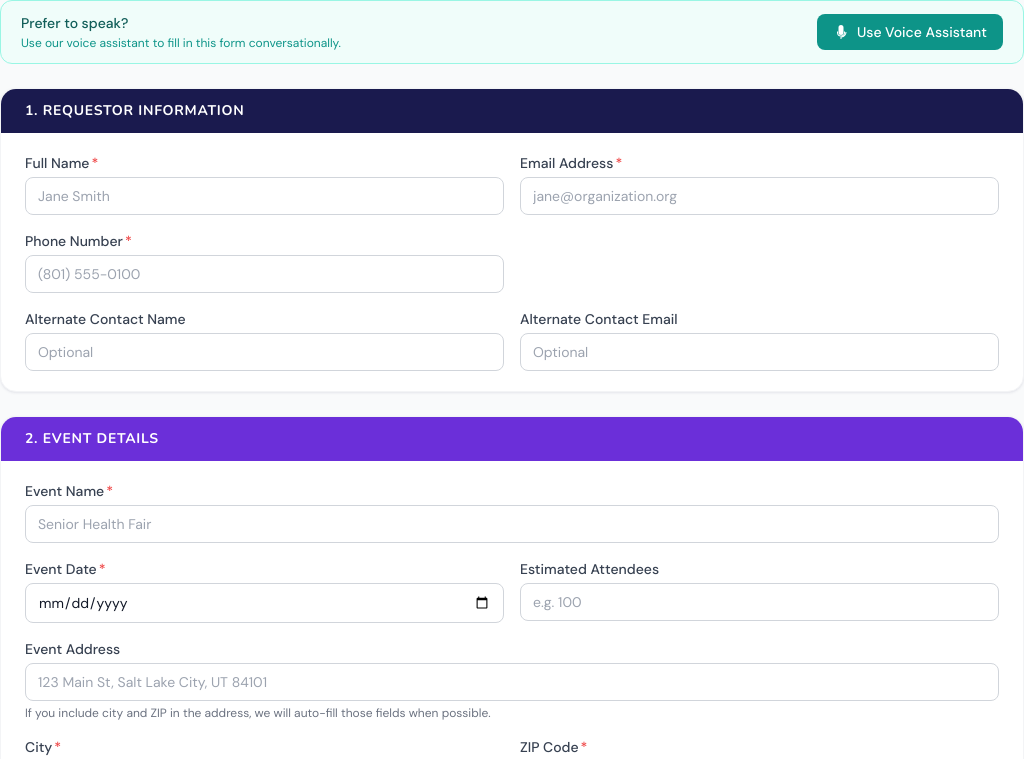
it: RequestForm › Required field validation on blur › shows error for invalid email format on blur
This screenshot has width=1024, height=759.
Type "not-an-email" into the field labelled "Email Address*" at (760, 196), box [520,177,999,215]
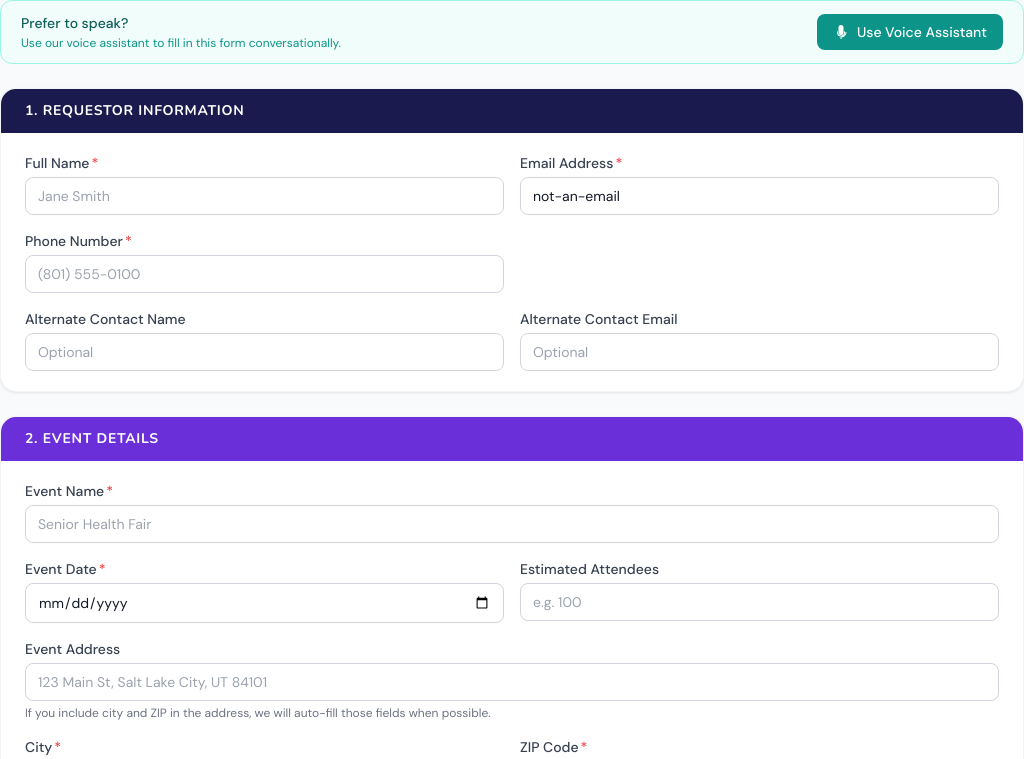
Leave the field labelled "Email Address*", box [520,177,999,215]
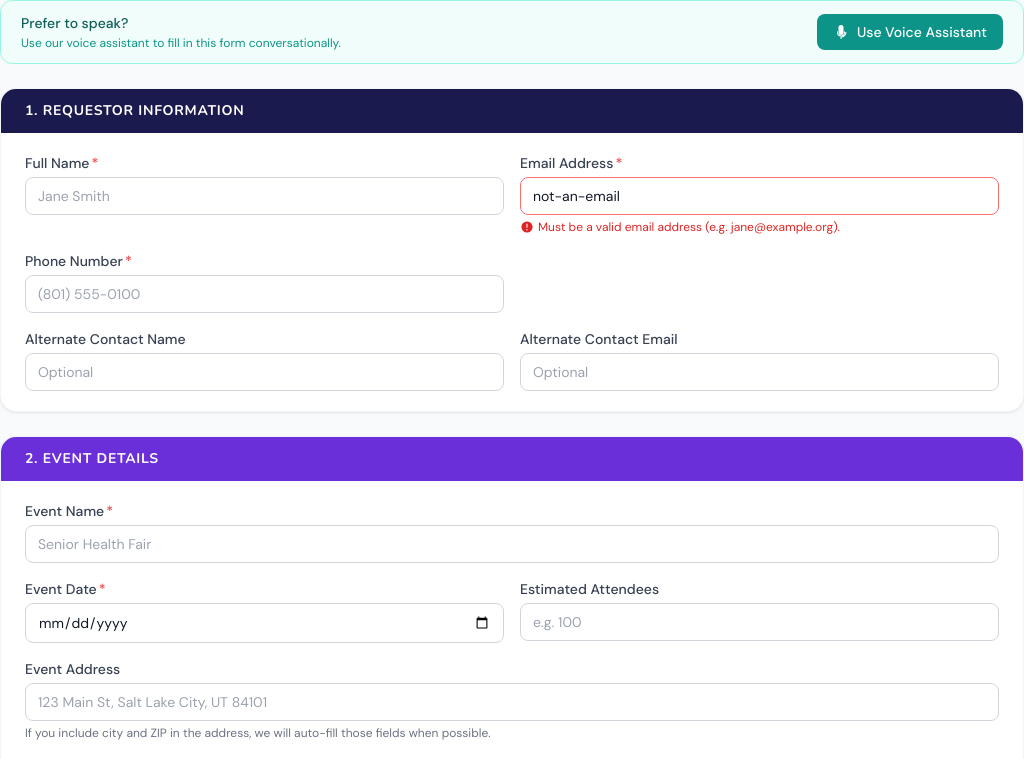
Result: the text "Must be a valid email address (e.g. jane@example.org)." is shown at [520,219,840,235]
